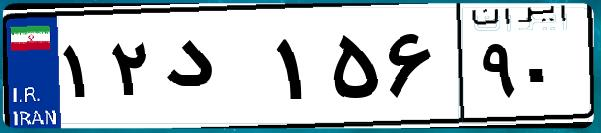0: (525, 38, 570, 115)
1: (270, 28, 330, 110), (57, 26, 110, 100)
2: (110, 28, 158, 98)
5: (330, 28, 385, 110)
6: (385, 28, 445, 110)
9: (475, 38, 525, 113)
د: (158, 20, 270, 120)
